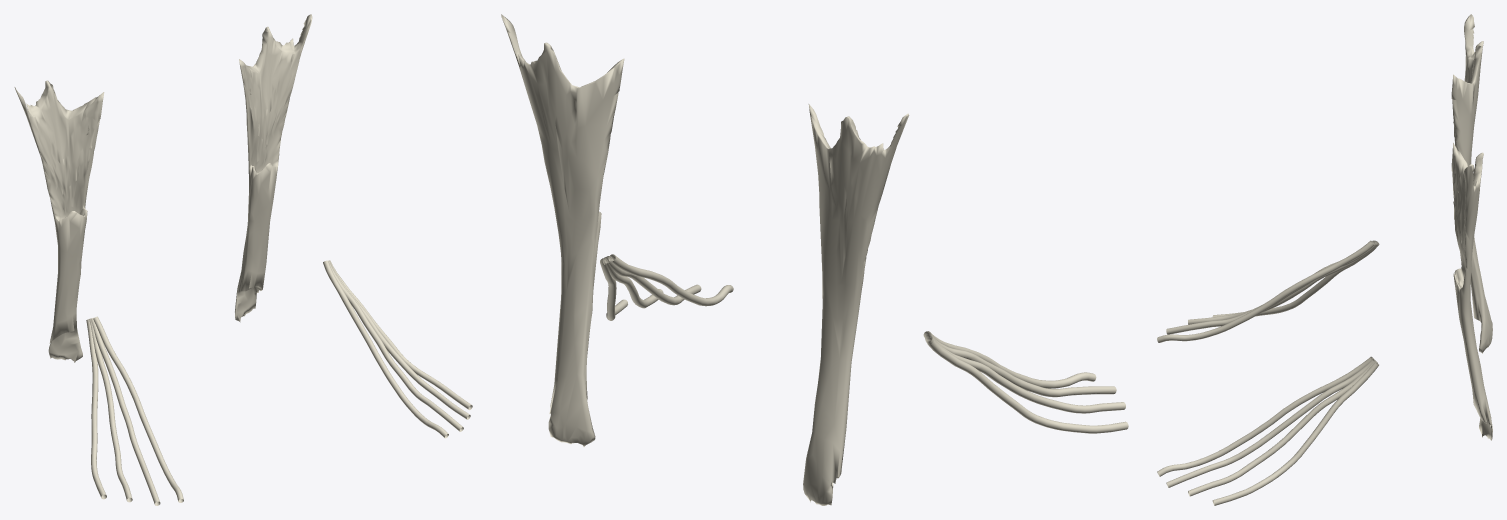
File: tendons-lower-limb-balanced.glb
3 views of the same model, side by side, from view 1: azimuth 30°, elevation 25°; view 2: azimuth 150°, elevation 25°; view 3: azimuth 270°, elevation 25° (orthographic). The views are drawn at different scales.
Visible parts, largest first — view 1: za.calcaneal-tendon-r, za.calcaneal-tendon-l, za.tendon-of-extensor-digitorum-longus-r, za.tendon-of-extensor-digitorum-longus-l; view 2: za.calcaneal-tendon-l, za.calcaneal-tendon-r, za.tendon-of-extensor-digitorum-longus-r, za.tendon-of-extensor-digitorum-longus-l; view 3: za.tendon-of-extensor-digitorum-longus-l, za.calcaneal-tendon-l, za.calcaneal-tendon-r, za.tendon-of-extensor-digitorum-longus-r.
Boxes of the visible parts, x1=… form: za.calcaneal-tendon-r: x1=14, y1=80, x2=104, y2=362; za.calcaneal-tendon-l: x1=235, y1=14, x2=312, y2=322; za.tendon-of-extensor-digitorum-longus-r: x1=86, y1=316, x2=183, y2=505; za.tendon-of-extensor-digitorum-longus-l: x1=323, y1=260, x2=472, y2=438; za.calcaneal-tendon-l: x1=501, y1=14, x2=624, y2=446; za.calcaneal-tendon-r: x1=803, y1=104, x2=909, y2=505; za.tendon-of-extensor-digitorum-longus-r: x1=923, y1=331, x2=1128, y2=433; za.tendon-of-extensor-digitorum-longus-l: x1=600, y1=254, x2=733, y2=320; za.tendon-of-extensor-digitorum-longus-l: x1=1157, y1=356, x2=1378, y2=505; za.calcaneal-tendon-l: x1=1451, y1=143, x2=1492, y2=440; za.calcaneal-tendon-r: x1=1451, y1=14, x2=1492, y2=353; za.tendon-of-extensor-digitorum-longus-r: x1=1157, y1=240, x2=1379, y2=342.
Bounding box in the file's own units: 0.2884 × 0.2327 × 0.2184.
